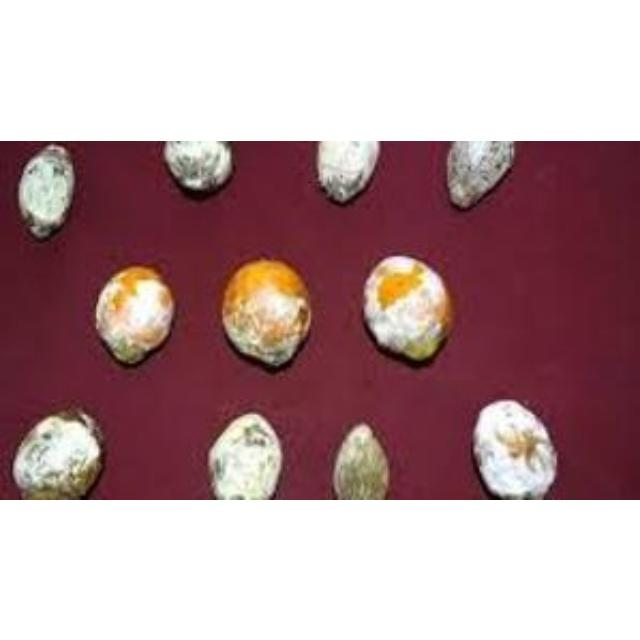damaged: (360, 251, 456, 361), (220, 256, 312, 364), (12, 407, 106, 498), (474, 399, 558, 497), (93, 262, 175, 362), (208, 412, 284, 498), (15, 142, 76, 238), (445, 140, 515, 208), (332, 422, 391, 498), (316, 140, 379, 202), (164, 140, 234, 192)
